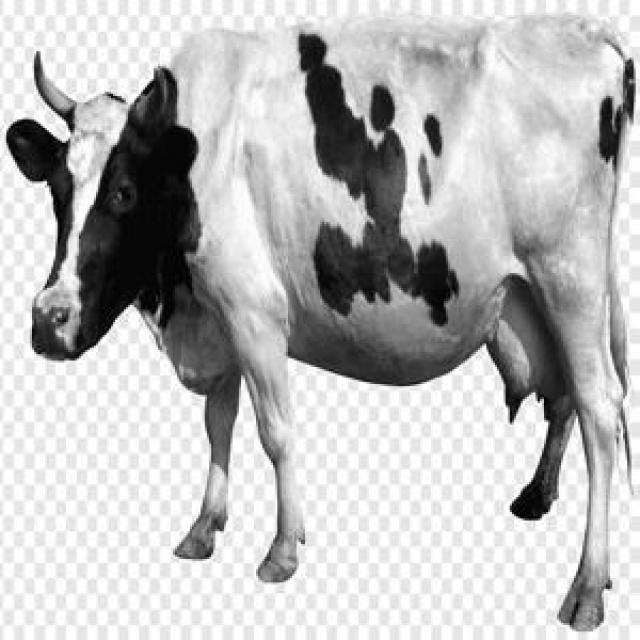cow: (8, 15, 634, 629)
